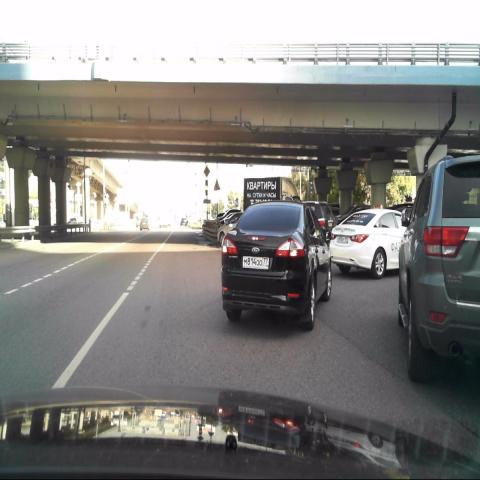1_25: (213, 178, 221, 192)
2_1: (203, 163, 211, 177)
